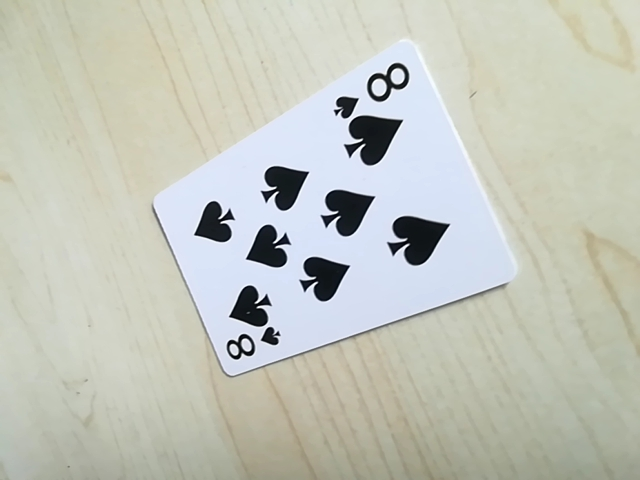ht 8: (336, 54, 414, 110), (216, 323, 281, 370)
